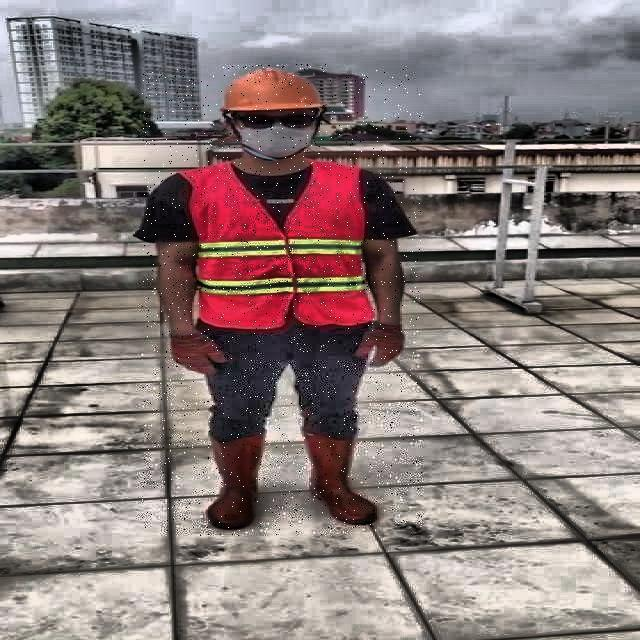safety_helmet: (221, 64, 326, 112)
safety_jacket: (180, 167, 372, 328)
